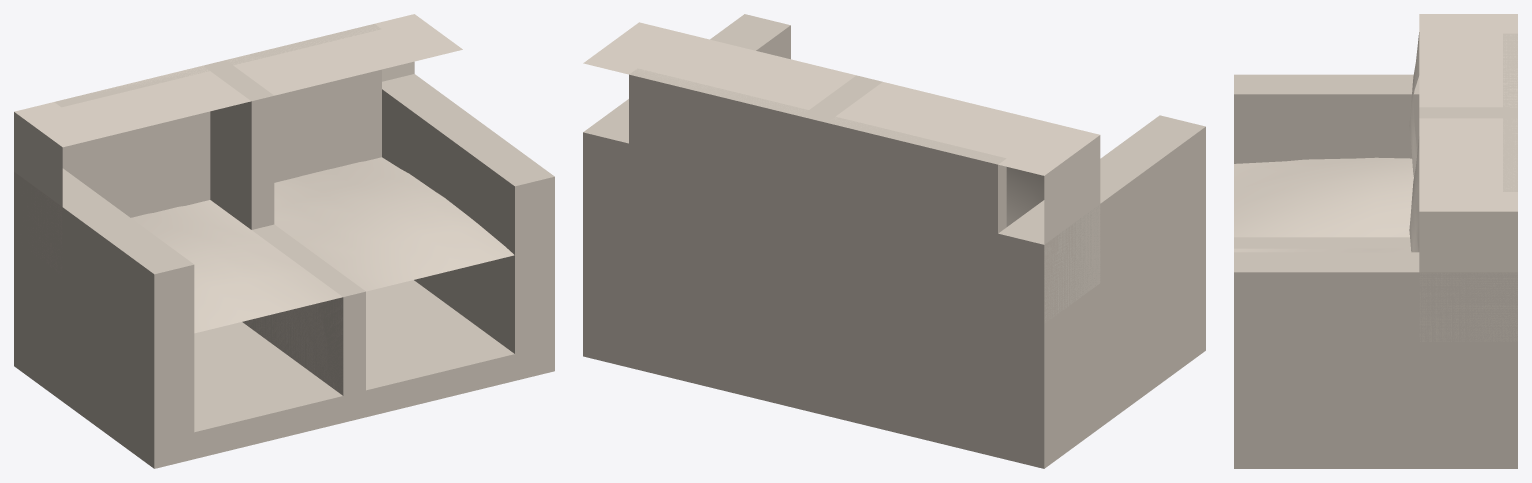
Rendered from loveseat.glb.
3 views of the same model, side by side, from view 1: azimuth 30°, elevation 25°; view 2: azimuth 150°, elevation 25°; view 3: azimuth 270°, elevation 25° (orthographic). The views are drawn at different scales.
Size of the model in its own units: 1.4 by 0.85 by 0.85.
